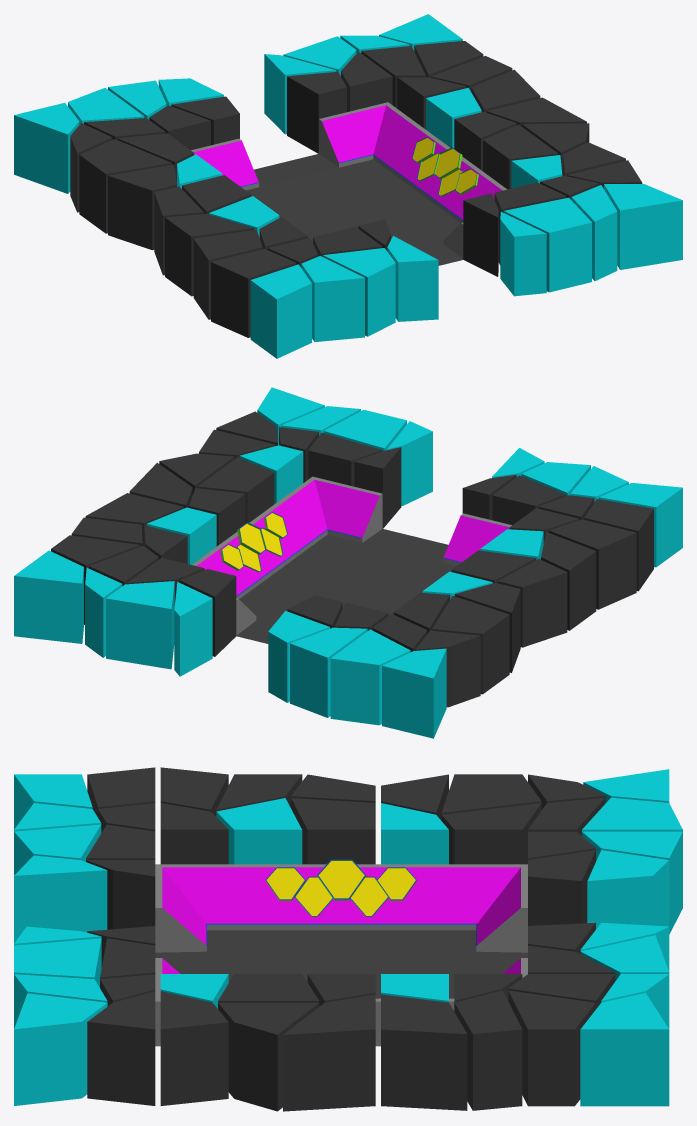
Rendered from stadium05.fbx.
3 renders of one model, top to bottom at view 1: azimuth 30°, elevation 25°; view 2: azimuth 150°, elevation 25°; view 3: azimuth 270°, elevation 25°, orthographic. The views are drawn at different scales.
Visible parts, largest first — view 1: pCube2, polySurface784, pasted__pasted__pasted__pCube378, pasted__pasted__pasted__pCube357, pasted__pasted__pasted__pCube346, pasted__pasted__pasted__pCube368, pasted__pasted__pasted__pCube354, pasted__pasted__pasted__pCube351, pasted__pasted__pasted__pCube360, pasted__pasted__pasted__pCube380, pasted__pasted__pasted__pCube373, pasted__pasted__pasted__pCube395 (+44 smaller); view 2: pCube2, polySurface784, pasted__pasted__pasted__pCube396, pasted__pasted__pasted__pCube361, pasted__pasted__pasted__pCube368, pasted__pasted__pasted__pCube393, pasted__pasted__pasted__pCube362, pasted__pasted__pasted__pCube383, pasted__pasted__pasted__pCube356, pasted__pasted__pasted__pCube380, pasted__pasted__pasted__pCube372, pasted__pasted__pasted__pCube382 (+44 smaller); view 3: polySurface782, pCube2, pasted__pasted__pasted__pCube349, pasted__pasted__pasted__pCube377, pasted__pasted__pasted__pCube396, pasted__pasted__pasted__pCube378, pasted__pasted__pasted__pCube389, pasted__pasted__pasted__pCube352, pasted__pasted__pasted__pCube355, pasted__pasted__pasted__pCube395, pasted__pasted__pasted__pCube386, pasted__pasted__pasted__pCube369 (+48 smaller).
Boxes of the visible parts, left/top/right/bottom form: pCube2: left=246, top=154, right=463, bottom=265; polySurface784: left=319, top=102, right=507, bottom=258; pasted__pasted__pasted__pCube378: left=604, top=184, right=682, bottom=269; pasted__pasted__pasted__pCube357: left=250, top=264, right=311, bottom=358; pasted__pasted__pasted__pCube346: left=503, top=197, right=591, bottom=292; pasted__pasted__pasted__pCube368: left=14, top=102, right=79, bottom=193; pasted__pasted__pasted__pCube354: left=301, top=256, right=364, bottom=341; pasted__pasted__pasted__pCube351: left=108, top=164, right=176, bottom=250; pasted__pasted__pasted__pCube360: left=211, top=249, right=296, bottom=337; pasted__pasted__pasted__pCube380: left=79, top=139, right=172, bottom=233; pasted__pasted__pasted__pCube373: left=287, top=71, right=346, bottom=153; pasted__pasted__pasted__pCube395: left=387, top=236, right=438, bottom=321; pCube2: left=236, top=529, right=456, bottom=643; polySurface784: left=192, top=476, right=382, bottom=635; pasted__pasted__pasted__pCube396: left=14, top=550, right=83, bottom=643; pasted__pasted__pasted__pCube361: left=106, top=581, right=174, bottom=669; pasted__pasted__pasted__pCube368: left=382, top=648, right=446, bottom=738; pasted__pasted__pasted__pCube393: left=330, top=629, right=410, bottom=725; pasted__pasted__pasted__pCube362: left=548, top=519, right=636, bottom=609; pasted__pasted__pasted__pCube383: left=497, top=559, right=567, bottom=647; pasted__pasted__pasted__pCube356: left=290, top=627, right=367, bottom=717; pasted__pasted__pasted__pCube380: left=432, top=596, right=509, bottom=694; pasted__pasted__pasted__pCube372: left=174, top=582, right=212, bottom=676; pasted__pasted__pasted__pCube382: left=541, top=532, right=596, bottom=630; polySurface782: left=155, top=864, right=527, bottom=952; pCube2: left=155, top=930, right=527, bottom=998; pasted__pasted__pasted__pCube349: left=283, top=994, right=375, bottom=1111; pasted__pasted__pasted__pCube377: left=381, top=994, right=467, bottom=1110; pasted__pasted__pasted__pCube396: left=580, top=993, right=669, bottom=1106; pasted__pasted__pasted__pCube378: left=14, top=993, right=107, bottom=1105; pasted__pasted__pasted__pCube389: left=508, top=990, right=595, bottom=1106; pasted__pasted__pasted__pCube352: left=160, top=991, right=228, bottom=1105; pasted__pasted__pasted__pCube355: left=87, top=991, right=155, bottom=1105; pasted__pasted__pasted__pCube395: left=14, top=855, right=107, bottom=943; pasted__pasted__pasted__pCube386: left=218, top=1002, right=319, bottom=1111; pasted__pasted__pasted__pCube369: left=454, top=990, right=522, bottom=1110.
Bounding box in the file's own units: 306 × 40.95 × 324.
